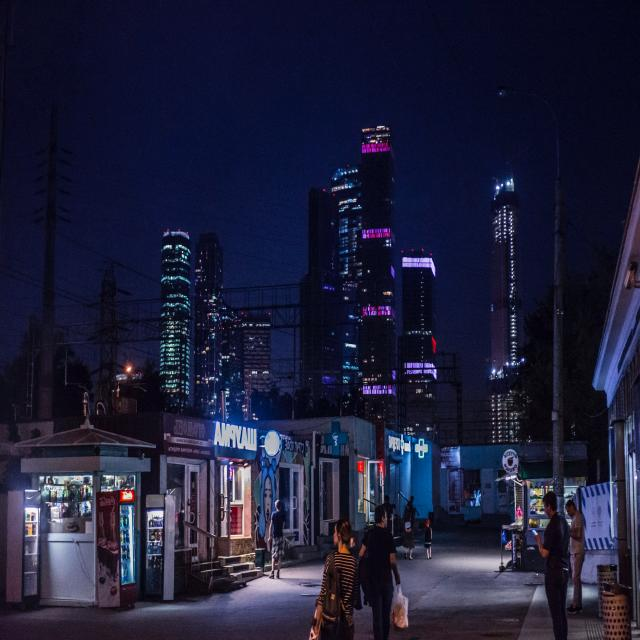adult: (358, 504, 401, 640), (317, 517, 361, 640), (534, 491, 570, 640), (565, 498, 586, 612), (267, 499, 286, 579), (402, 504, 414, 559), (424, 519, 433, 559)
